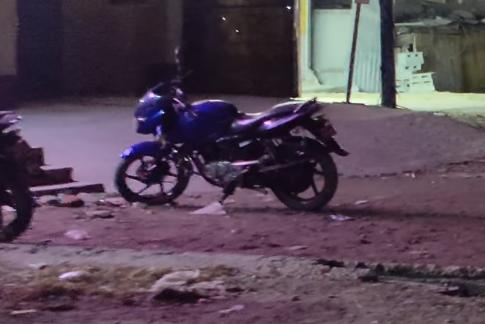bike: (112, 53, 351, 213)
